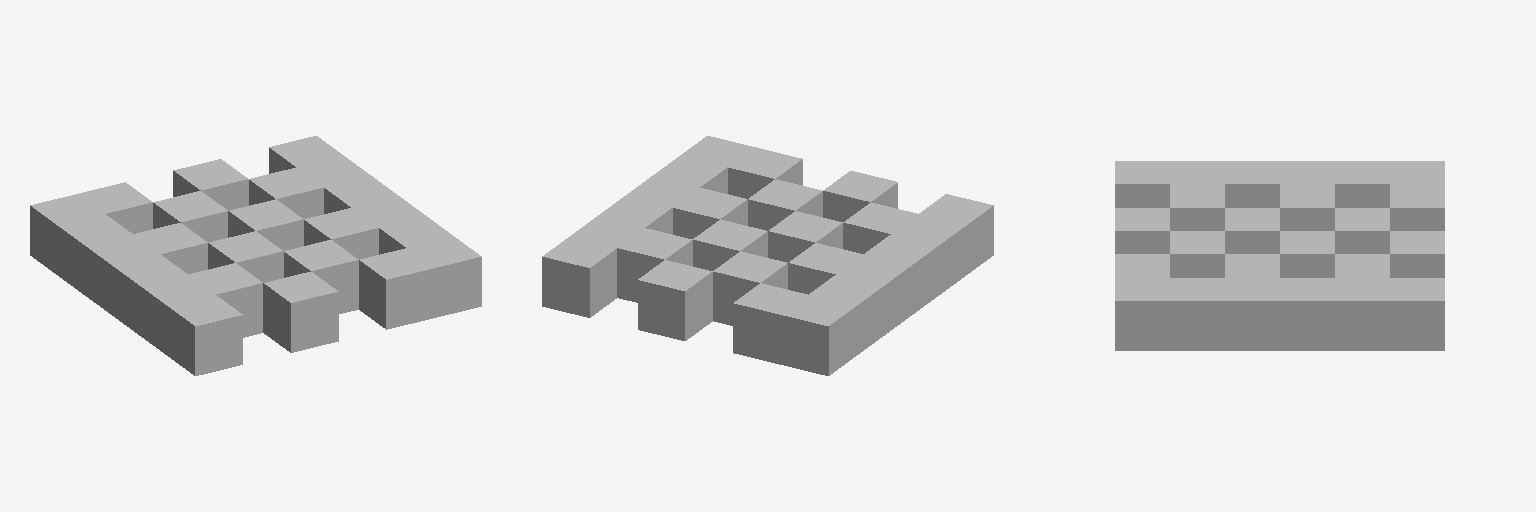
File: Road Grate U.obj
3 renders of one model, left to right at view 1: azimuth 30°, elevation 25°; view 2: azimuth 150°, elevation 25°; view 3: azimuth 270°, elevation 25°, orthographic.
Visible parts, largest first — view 1: object 1; view 2: object 1; view 3: object 1.
Part boxes in pixels (left/top/right/bottom): object 1: left=30, top=136, right=481, bottom=375; object 1: left=542, top=136, right=993, bottom=375; object 1: left=1115, top=161, right=1444, bottom=350.
Size of the model in its own units: 0.6 by 0.1 by 0.6.